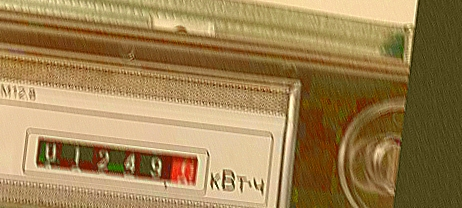0: (41, 140, 57, 162)
1: (68, 143, 82, 166)
2: (92, 147, 111, 171)
4: (121, 151, 137, 172)
7: (175, 154, 191, 176)
9: (147, 156, 162, 178)
screen: (17, 125, 213, 197)
